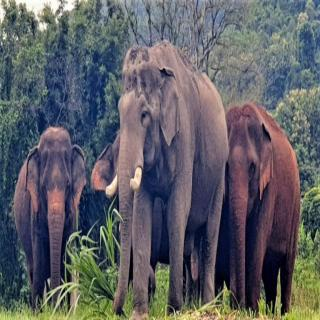Elephant: (105, 33, 229, 313), (224, 95, 303, 320), (12, 125, 88, 314)
